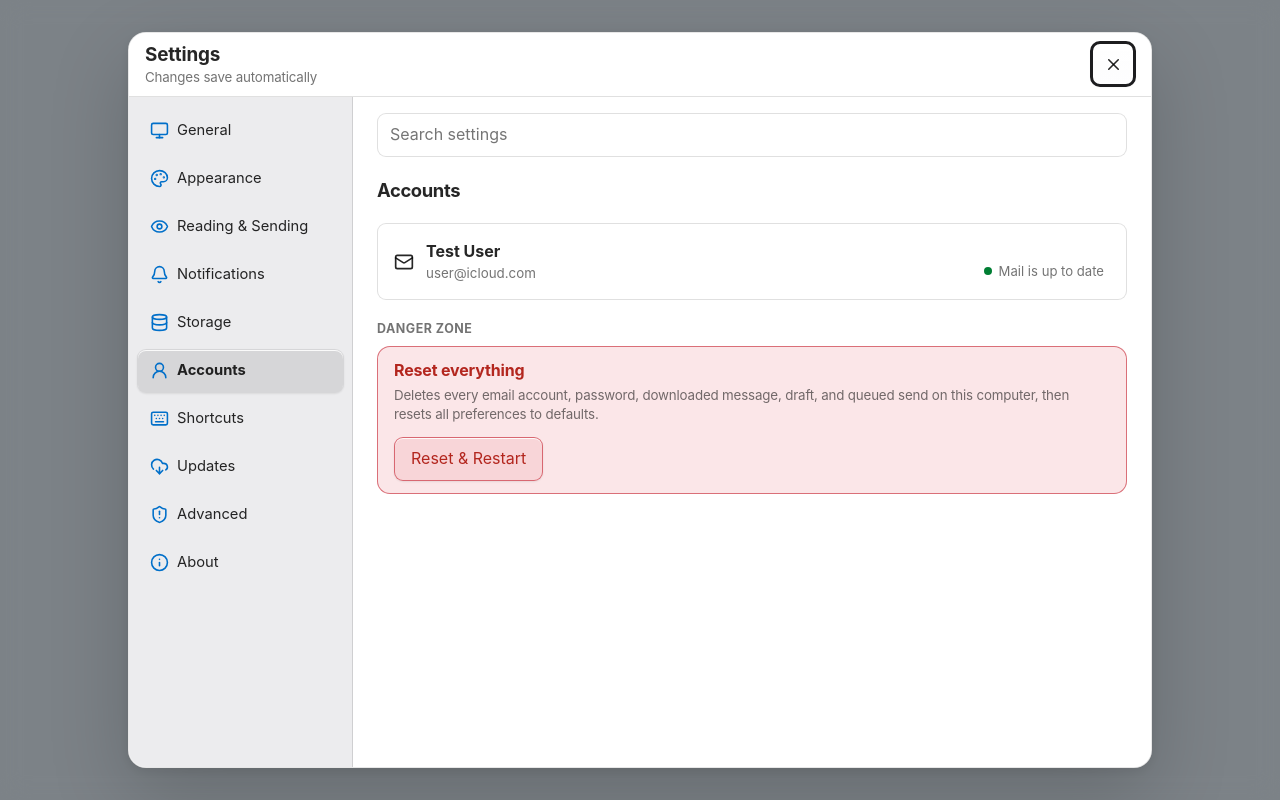
Test case: SettingsDialog component › describes filter rules with localized actions and folder names
Step 1. Click the button with aria-label "Manage Test User" → point(463, 251), box [377,223,1127,300]
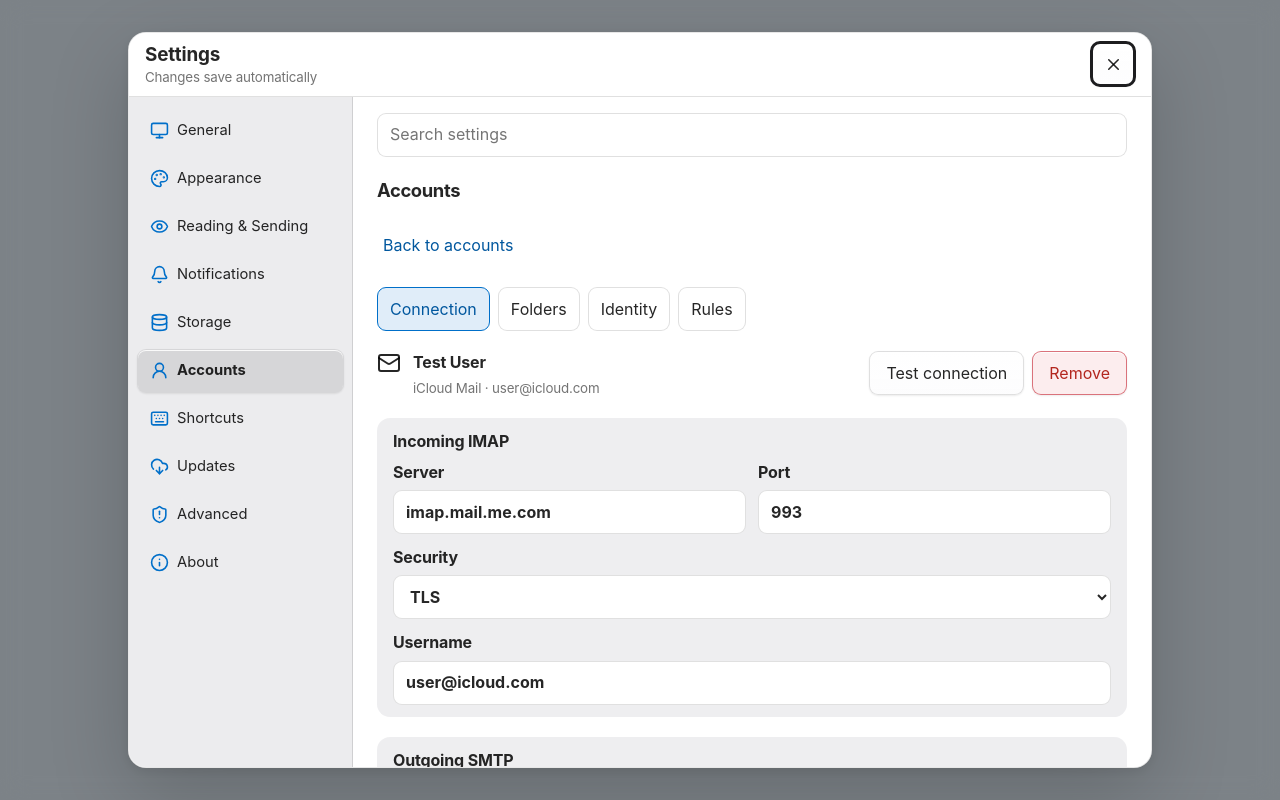
Step 2. Click the button "Rules" → point(712, 309), box [678,287,746,331]
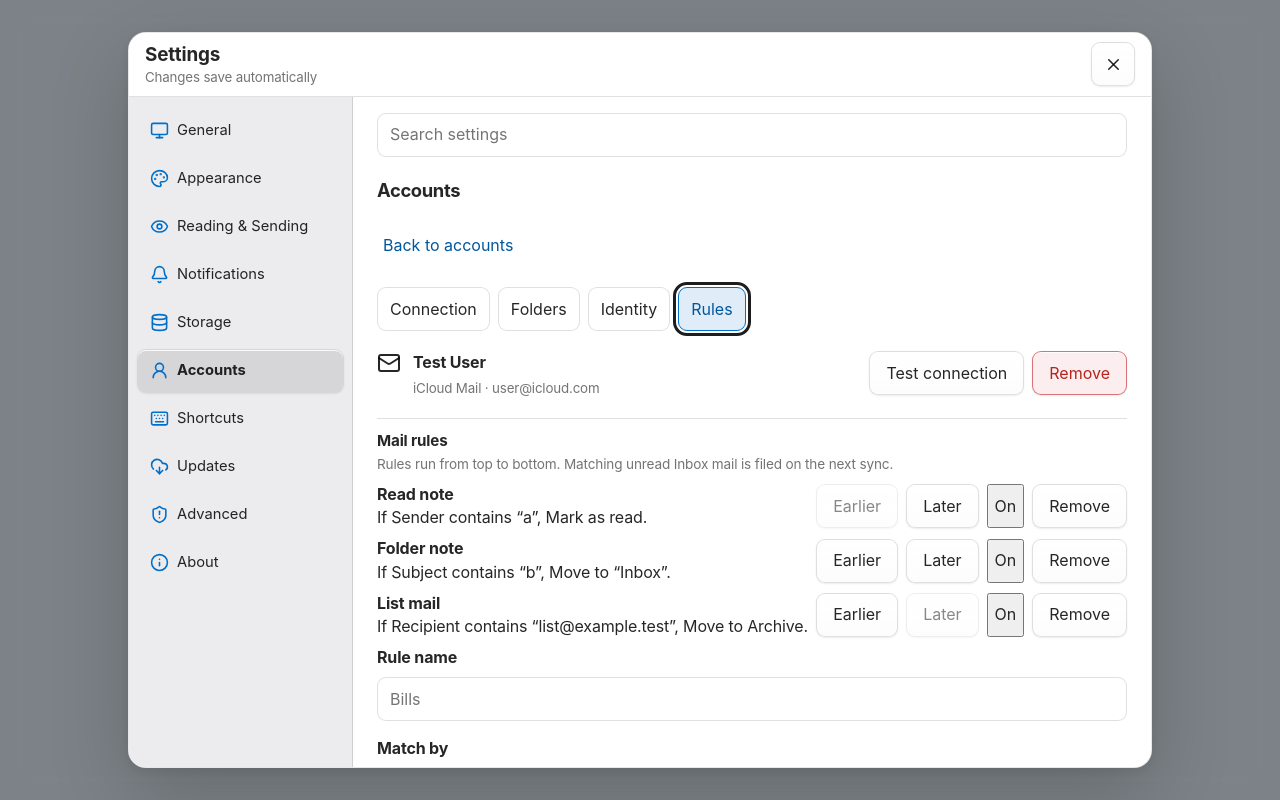
Now the text "Read note" is shown, box [377,484,454,504]
Now the text "If Sender contains “a”, Mark as read." is shown, box [377,507,647,527]
Now the text "If Recipient contains “list@example.test”, Move to Archive." is shown, box [377,615,808,638]
